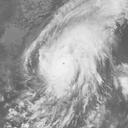cyclone: (36, 38, 91, 98)
